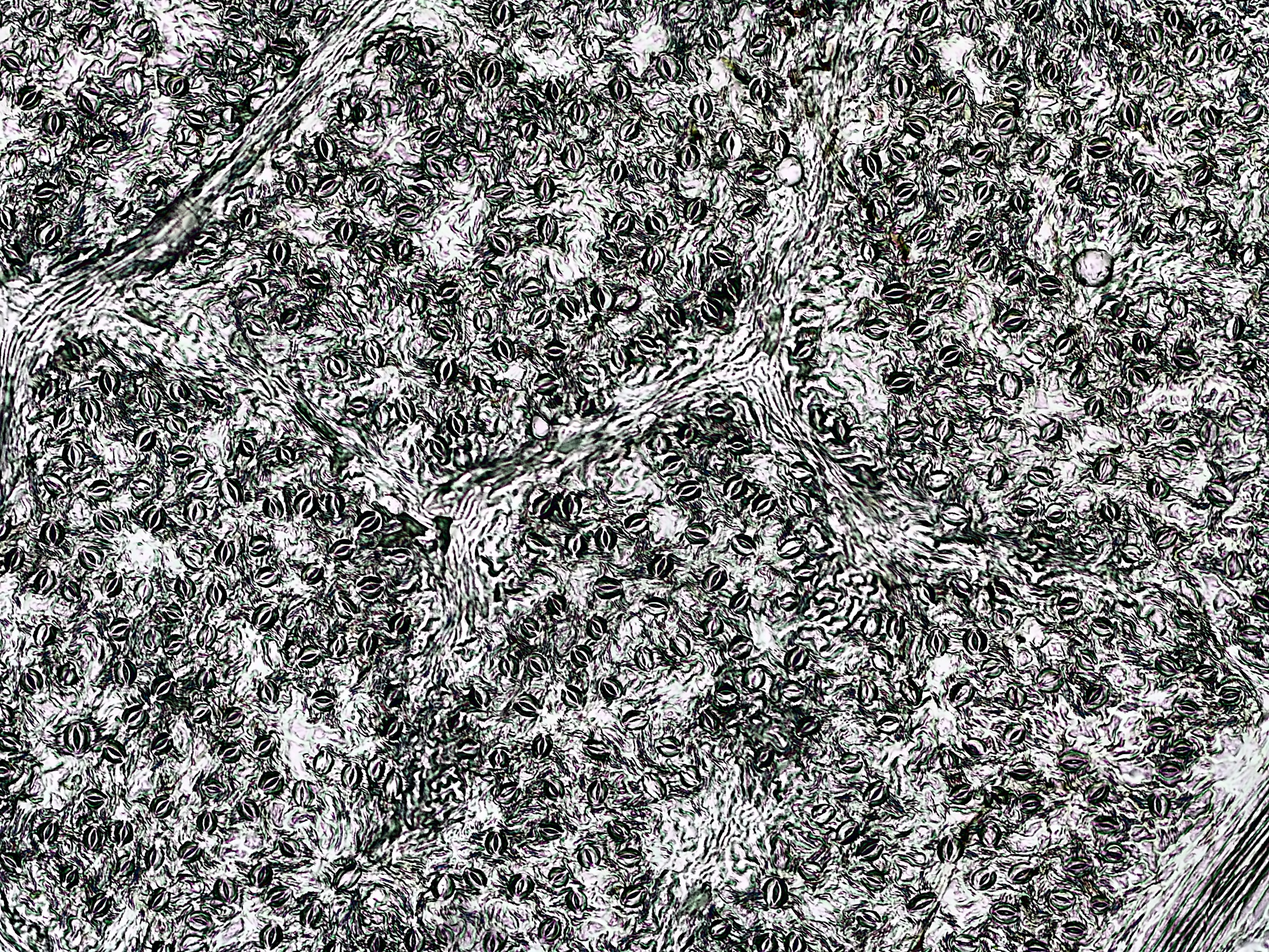stomata: (905, 890, 940, 917), (886, 70, 915, 101), (640, 243, 668, 274), (936, 831, 961, 865), (333, 861, 360, 892), (64, 722, 90, 754), (766, 128, 794, 157), (719, 128, 744, 160), (129, 18, 159, 44), (490, 0, 516, 30), (529, 486, 555, 516), (120, 69, 145, 100), (762, 876, 787, 907), (217, 476, 241, 508), (478, 53, 501, 86), (592, 575, 625, 598), (721, 473, 748, 501), (912, 0, 941, 26), (1116, 100, 1142, 129), (980, 784, 1009, 810), (607, 209, 637, 234), (742, 161, 777, 182), (76, 23, 103, 50), (905, 39, 931, 67), (121, 703, 149, 729), (1008, 859, 1036, 885), (1131, 168, 1156, 197), (1000, 372, 1025, 401), (27, 0, 51, 30), (689, 94, 713, 124), (885, 370, 915, 394), (355, 573, 385, 597), (484, 181, 515, 204), (669, 0, 701, 22), (361, 335, 383, 367), (579, 34, 605, 61), (680, 197, 706, 224), (698, 298, 724, 325), (749, 492, 776, 518), (640, 771, 666, 798), (329, 536, 357, 561), (863, 780, 891, 805), (95, 366, 119, 395), (105, 616, 134, 640), (960, 6, 982, 37), (595, 524, 617, 555), (940, 506, 974, 526), (977, 822, 1003, 848), (644, 210, 671, 235), (133, 425, 158, 452), (1037, 667, 1064, 692), (312, 174, 340, 198), (903, 116, 931, 140), (253, 602, 277, 630), (789, 457, 817, 481), (394, 202, 423, 225), (536, 215, 559, 244), (942, 78, 965, 107), (94, 511, 123, 534), (778, 535, 807, 558), (988, 43, 1010, 73), (989, 903, 1022, 923), (450, 69, 476, 94), (891, 181, 917, 206), (972, 179, 997, 205), (42, 473, 68, 498), (357, 509, 382, 535), (970, 866, 996, 891), (1098, 183, 1125, 207), (1237, 99, 1265, 122), (894, 420, 922, 443), (432, 357, 455, 385), (647, 551, 670, 579), (1084, 681, 1107, 709), (196, 623, 218, 652), (679, 141, 700, 171), (708, 244, 738, 265), (1086, 136, 1116, 157), (950, 931, 980, 952), (1101, 336, 1126, 361), (624, 510, 649, 535), (925, 632, 950, 657), (8, 153, 32, 179), (971, 141, 995, 167), (526, 304, 552, 328), (471, 369, 495, 395), (394, 395, 418, 421), (113, 658, 137, 684), (858, 611, 882, 637), (949, 682, 975, 706), (620, 884, 646, 908), (654, 53, 677, 80), (748, 33, 775, 56), (747, 78, 770, 105), (1038, 273, 1065, 296), (999, 309, 1026, 332), (1067, 364, 1090, 391), (676, 479, 703, 502), (785, 644, 808, 671), (87, 892, 110, 919), (1152, 525, 1179, 548), (899, 679, 922, 706), (531, 375, 562, 395), (581, 738, 612, 758), (563, 139, 582, 171), (357, 173, 381, 198), (489, 231, 514, 255), (993, 110, 1017, 135), (1200, 105, 1225, 129), (186, 466, 210, 491), (497, 653, 521, 678), (150, 793, 175, 817), (884, 615, 908, 640), (363, 240, 389, 263), (1026, 141, 1052, 164), (1092, 455, 1115, 481), (792, 339, 818, 362), (937, 343, 963, 366), (790, 490, 813, 516), (464, 867, 490, 890), (585, 780, 608, 806), (798, 858, 824, 881), (87, 133, 114, 155), (720, 275, 742, 302), (1169, 350, 1202, 368), (33, 567, 55, 594), (359, 628, 381, 655), (1057, 753, 1090, 771), (317, 130, 336, 161), (1225, 550, 1244, 581), (1160, 103, 1188, 124), (926, 257, 954, 278), (980, 415, 1001, 443), (61, 440, 82, 468), (524, 531, 552, 552), (534, 173, 554, 202), (270, 238, 290, 267), (699, 612, 723, 636), (1083, 778, 1107, 802), (77, 91, 102, 114), (308, 3, 333, 26), (656, 111, 679, 136), (1003, 261, 1026, 286), (910, 222, 935, 245), (249, 860, 272, 885), (964, 629, 987, 654), (839, 751, 864, 774), (973, 246, 995, 272), (200, 383, 226, 405), (404, 926, 426, 952), (656, 735, 682, 757), (1184, 128, 1211, 149), (882, 281, 909, 302), (1167, 293, 1188, 320), (1199, 419, 1220, 446), (1227, 406, 1254, 427), (905, 318, 932, 339), (83, 788, 110, 809), (301, 901, 322, 928), (107, 106, 135, 126), (474, 307, 494, 335), (862, 318, 890, 338), (138, 384, 158, 412), (512, 694, 540, 714), (1048, 888, 1076, 908), (857, 676, 877, 704), (533, 733, 553, 761), (16, 87, 40, 110), (1003, 74, 1027, 97), (1038, 419, 1062, 442), (615, 285, 638, 309), (599, 677, 622, 701), (237, 798, 260, 822), (214, 879, 237, 903), (267, 883, 291, 906), (1146, 793, 1170, 816), (860, 837, 884, 860), (420, 122, 442, 147), (479, 266, 504, 288), (1009, 190, 1031, 215), (37, 377, 59, 402), (703, 564, 725, 589), (834, 820, 859, 842), (427, 320, 453, 341), (594, 241, 620, 262), (1172, 437, 1198, 458), (56, 659, 77, 685), (561, 491, 582, 517), (484, 829, 505, 855), (952, 575, 978, 596), (0, 200, 17, 232), (209, 577, 226, 609), (703, 25, 723, 52), (4, 543, 22, 573), (101, 572, 121, 599), (729, 589, 749, 616), (434, 874, 454, 901), (1061, 920, 1088, 940), (1018, 794, 1045, 814), (1021, 342, 1049, 361), (1157, 760, 1185, 779), (36, 222, 59, 245), (1133, 331, 1156, 354), (34, 621, 57, 644), (299, 560, 322, 583), (872, 648, 895, 671), (535, 915, 558, 938), (166, 75, 190, 97), (110, 197, 134, 219), (436, 281, 460, 303), (82, 544, 104, 568), (389, 611, 411, 635), (560, 685, 584, 707), (101, 741, 125, 763), (150, 732, 172, 756), (984, 464, 1006, 488), (623, 709, 647, 731), (343, 762, 360, 793), (605, 158, 626, 183), (286, 171, 307, 196), (237, 207, 258, 232), (670, 631, 691, 656), (1, 849, 22, 874), (259, 770, 284, 791), (59, 863, 80, 888), (1217, 686, 1242, 707), (810, 803, 835, 824), (185, 498, 203, 527), (178, 933, 207, 951), (512, 872, 530, 901), (61, 164, 87, 184), (494, 336, 514, 362), (265, 924, 285, 950), (781, 681, 807, 701), (616, 846, 642, 866), (29, 181, 56, 200), (264, 493, 283, 520), (684, 522, 711, 541), (1100, 844, 1127, 863), (1087, 894, 1114, 913), (530, 13, 552, 36), (419, 72, 441, 95), (887, 143, 910, 165), (1041, 60, 1063, 83), (1061, 170, 1083, 193), (1210, 482, 1232, 505), (88, 479, 111, 501), (20, 668, 42, 691), (732, 534, 755, 556), (36, 820, 58, 843), (253, 735, 275, 758), (173, 138, 201, 156), (1183, 42, 1204, 66), (578, 362, 602, 383), (143, 504, 161, 532), (42, 521, 63, 545), (644, 595, 668, 616), (197, 811, 218, 835), (566, 889, 587, 913), (743, 665, 764, 689), (335, 217, 355, 242), (429, 435, 449, 460), (327, 352, 347, 377), (82, 397, 102, 422), (172, 575, 192, 600), (202, 777, 227, 797), (220, 740, 240, 765), (609, 77, 628, 103), (862, 153, 881, 179), (1150, 476, 1169, 502), (336, 593, 355, 619), (296, 780, 315, 806), (1013, 497, 1039, 516), (893, 462, 919, 481), (134, 575, 151, 604), (1091, 816, 1120, 833), (1063, 857, 1092, 874), (301, 269, 328, 287), (1146, 22, 1164, 49), (83, 823, 101, 850), (713, 688, 740, 706), (426, 155, 448, 177), (962, 222, 984, 244), (151, 675, 173, 697), (1005, 685, 1027, 707), (1004, 723, 1026, 745), (1189, 164, 1212, 185), (1168, 208, 1189, 231), (182, 547, 203, 570), (221, 707, 244, 728), (950, 783, 973, 804), (647, 158, 667, 182), (1127, 61, 1147, 85), (1054, 332, 1078, 352), (344, 395, 368, 415), (731, 633, 751, 657), (297, 645, 321, 665), (1175, 608, 1199, 628), (495, 782, 519, 802), (592, 283, 609, 311), (251, 567, 279, 584), (329, 630, 346, 658), (1009, 762, 1037, 779), (389, 42, 408, 67), (184, 107, 209, 126), (347, 286, 372, 305), (521, 277, 546, 296), (169, 445, 194, 464), (142, 626, 161, 651), (259, 680, 278, 705), (383, 772, 402, 797), (115, 853, 134, 878), (1250, 588, 1269, 613), (796, 716, 821, 735), (924, 288, 950, 306), (612, 343, 630, 369), (385, 714, 403, 740), (314, 749, 332, 775), (186, 911, 212, 929), (1027, 467, 1053, 485), (38, 44, 60, 65), (227, 42, 248, 64), (755, 931, 777, 952), (1061, 107, 1081, 130), (1140, 222, 1160, 245), (665, 302, 685, 325), (1085, 395, 1105, 418), (188, 702, 211, 722), (571, 644, 591, 667), (634, 647, 654, 670), (917, 582, 937, 605), (610, 819, 633, 839), (473, 122, 490, 149), (707, 402, 734, 419), (659, 456, 686, 473), (813, 1, 837, 20), (216, 539, 235, 563), (529, 652, 548, 676), (1150, 719, 1174, 738), (219, 85, 244, 103), (738, 198, 763, 216), (935, 157, 960, 175), (1242, 244, 1260, 269), (448, 412, 466, 437), (1176, 700, 1201, 718), (580, 843, 598, 868), (858, 874, 888, 889), (566, 528, 582, 556), (147, 845, 163, 873), (1116, 544, 1144, 560), (85, 0, 119, 13), (1219, 38, 1236, 64), (935, 183, 961, 200), (247, 313, 268, 334), (1109, 296, 1130, 317), (166, 415, 187, 436), (1079, 534, 1100, 555), (2, 50, 24, 70), (1200, 216, 1222, 236), (1129, 365, 1149, 387), (560, 295, 580, 317), (520, 617, 540, 639), (982, 656, 1002, 678), (192, 51, 215, 70), (516, 119, 535, 142), (1070, 16, 1089, 39), (1212, 247, 1235, 266), (371, 405, 390, 428), (963, 738, 986, 757), (0, 245, 24, 263), (409, 178, 433, 196), (128, 478, 152, 496), (295, 492, 313, 516), (454, 739, 481, 755), (706, 919, 730, 937), (44, 112, 61, 137), (937, 416, 954, 441), (115, 820, 132, 845), (280, 310, 301, 330), (1154, 76, 1175, 96), (587, 616, 608, 636), (938, 748, 958, 769), (550, 864, 570, 885), (1156, 412, 1175, 434), (248, 533, 267, 555), (150, 887, 169, 909), (755, 746, 774, 768), (1030, 534, 1056, 550), (55, 405, 73, 428), (439, 924, 457, 947), (1092, 618, 1115, 636), (876, 715, 899, 733), (620, 119, 637, 143), (408, 290, 425, 314), (1226, 316, 1243, 340), (1130, 423, 1147, 447), (160, 603, 184, 620), (1106, 17, 1121, 44), (925, 473, 952, 488), (1076, 649, 1096, 669), (576, 395, 595, 416), (240, 437, 261, 456), (166, 634, 185, 655), (280, 837, 301, 856), (1157, 654, 1176, 675), (546, 80, 564, 102), (635, 336, 657, 354), (312, 692, 334, 710), (1241, 624, 1263, 642), (699, 709, 717, 731), (418, 33, 435, 56), (1165, 6, 1182, 29), (868, 198, 883, 224), (1056, 599, 1086, 612), (988, 582, 1014, 597), (171, 378, 187, 402), (325, 492, 341, 516), (62, 583, 81, 603), (1, 729, 20, 749), (679, 765, 698, 785), (1201, 15, 1219, 36), (1040, 305, 1061, 323), (1114, 389, 1132, 410), (390, 547, 411, 565), (384, 683, 402, 704), (180, 840, 198, 861), (811, 405, 826, 430), (725, 438, 750, 453), (366, 756, 381, 781), (225, 8, 247, 25), (550, 593, 567, 615), (859, 908, 881, 925), (193, 252, 216, 268), (573, 96, 587, 122), (542, 343, 568, 357), (993, 609, 1012, 628), (270, 38, 294, 53), (1024, 0, 1042, 20), (787, 0, 809, 16), (833, 418, 849, 440), (472, 684, 488, 706), (547, 778, 563, 800), (862, 240, 876, 265), (792, 567, 817, 581), (1043, 506, 1066, 521), (0, 760, 19, 778), (789, 931, 807, 950), (397, 236, 410, 262), (272, 0, 293, 16), (538, 825, 560, 840), (521, 95, 539, 113), (278, 446, 295, 465), (680, 425, 697, 444), (243, 182, 259, 201), (198, 669, 214, 688), (491, 749, 506, 769), (651, 434, 666, 453), (0, 516, 11, 541), (0, 702, 13, 723), (1198, 663, 1214, 680), (484, 934, 501, 949), (1025, 940, 1048, 951), (369, 932, 383, 950), (1103, 502, 1117, 520), (778, 595, 799, 607), (327, 938, 343, 952), (449, 712, 464, 726), (1175, 741, 1191, 754)
